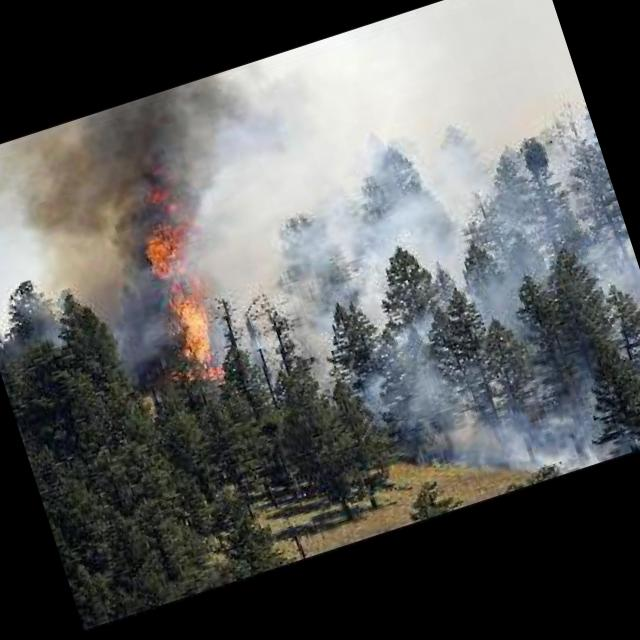fire: (108, 159, 242, 400)
smoke: (309, 93, 640, 481), (0, 67, 274, 286)
